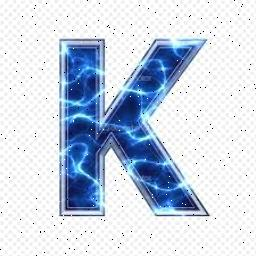k: (46, 28, 226, 248)
